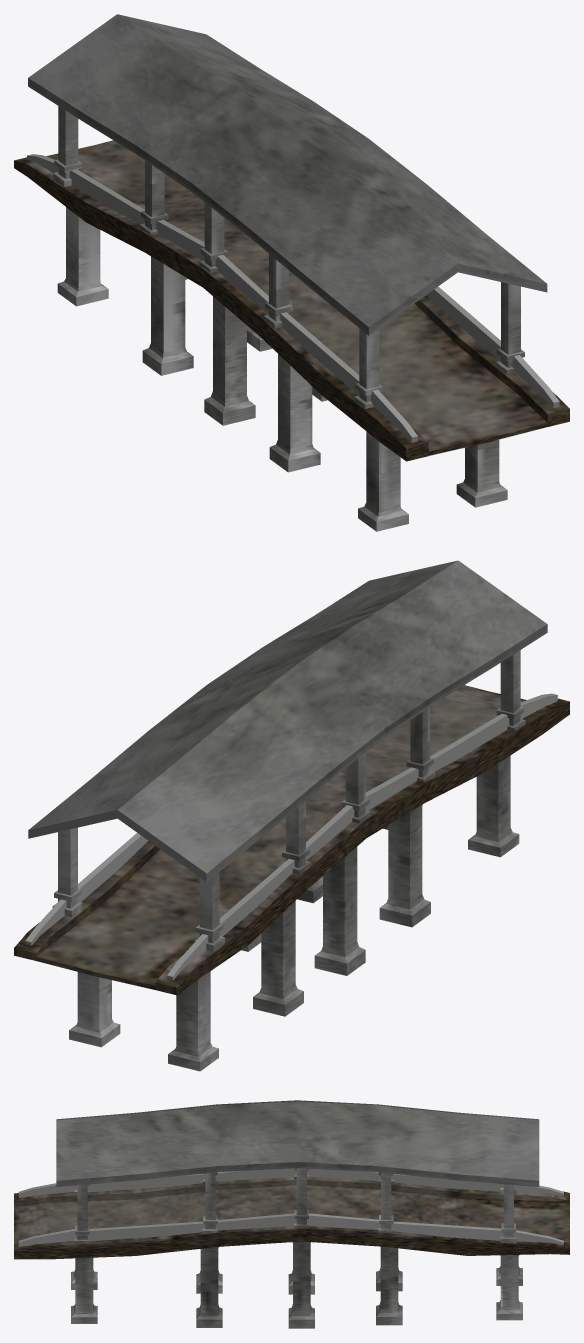
File: Ponte de segundo Teste.fbx
The picture shows the model from 3 angles, top to bottom: view 1: azimuth 30°, elevation 25°; view 2: azimuth 150°, elevation 25°; view 3: azimuth 270°, elevation 25°; orthographic projection. The views are drawn at different scales.
Parts seen in each view (by area): view 1: POnte antiga; view 2: POnte antiga; view 3: POnte antiga.
Boxes of the visible parts, x1=… form: POnte antiga: x1=14, y1=14, x2=569, y2=531; POnte antiga: x1=14, y1=560, x2=569, y2=1071; POnte antiga: x1=14, y1=1100, x2=569, y2=1328.
Size of the model in its own units: 495 by 729 by 1803.
Materials: 1 (1 with a texture image).
